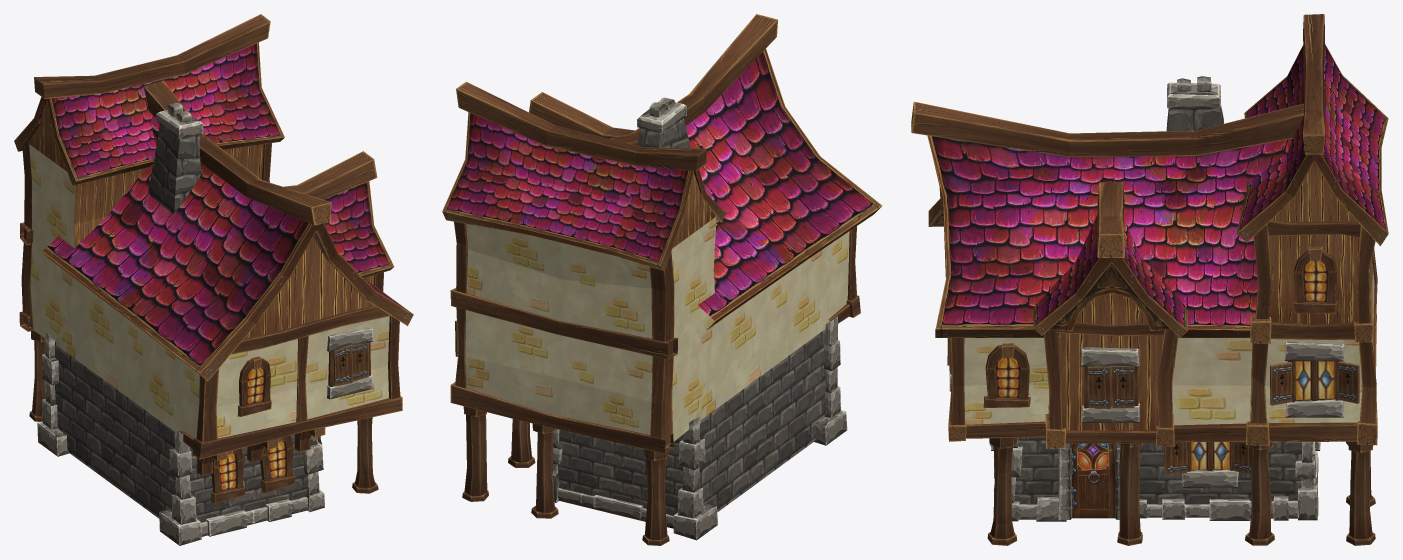
3 views of the same model, side by side, from view 1: azimuth 30°, elevation 25°; view 2: azimuth 150°, elevation 25°; view 3: azimuth 270°, elevation 25° (orthographic). The views are drawn at different scales.
Parts seen in each view (by area): view 1: Object036; view 2: Object036; view 3: Object036.
Boxes of the visible parts, x1,y1,x2,y2 form: Object036: [14, 14, 413, 545]; Object036: [442, 14, 882, 545]; Object036: [911, 14, 1388, 545].
Bounding box in the file's own units: 835 × 1186 × 1186.
Materials: 1 (1 with a texture image).
